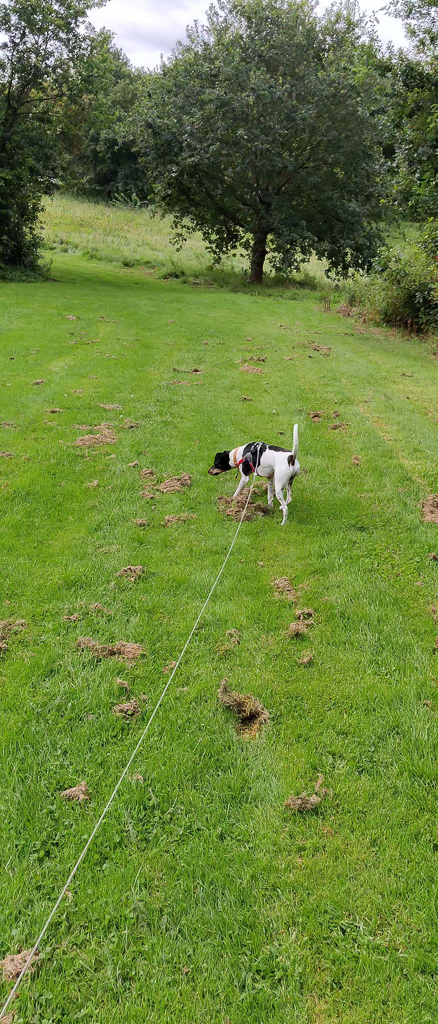Dog: (205, 418, 316, 534)
